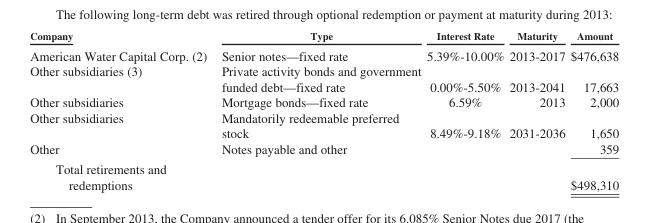table: (29, 29, 618, 191)
table column: (213, 29, 423, 191), (29, 29, 213, 191), (423, 29, 506, 191), (506, 29, 567, 191), (567, 29, 618, 191)
table column header: (29, 29, 618, 44)
table row: (29, 158, 618, 191), (29, 62, 618, 93), (29, 109, 618, 140), (29, 44, 618, 62), (29, 140, 618, 158), (29, 93, 618, 109), (29, 29, 618, 44)
